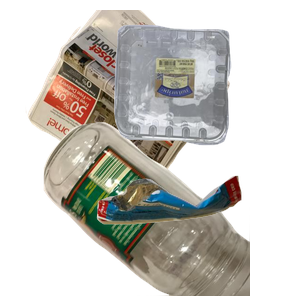glass: (41, 120, 281, 300)
paper: (23, 10, 245, 190)
plastic: (112, 22, 300, 160)
trash: (94, 173, 300, 300)
